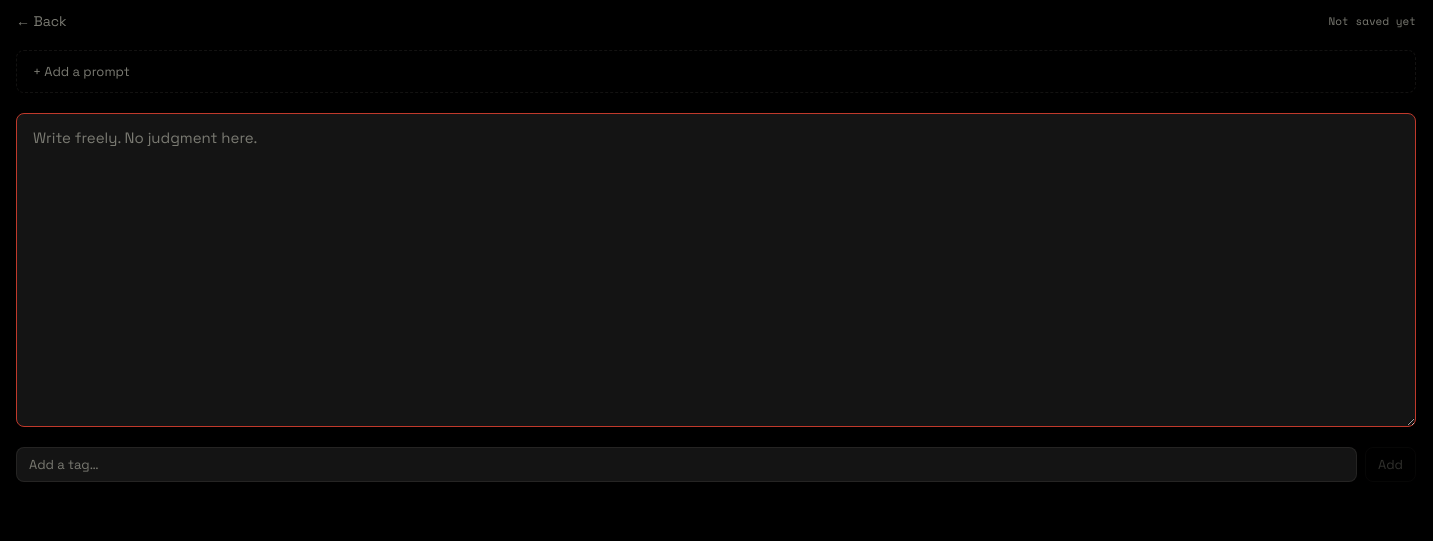
Test: JournalEntry — new entry mode › cycles to a new prompt when "New prompt" is clicked
Click the button "+ Add a prompt".
click(81, 72)  # box top-left (16, 50), bottom-right (1416, 93)
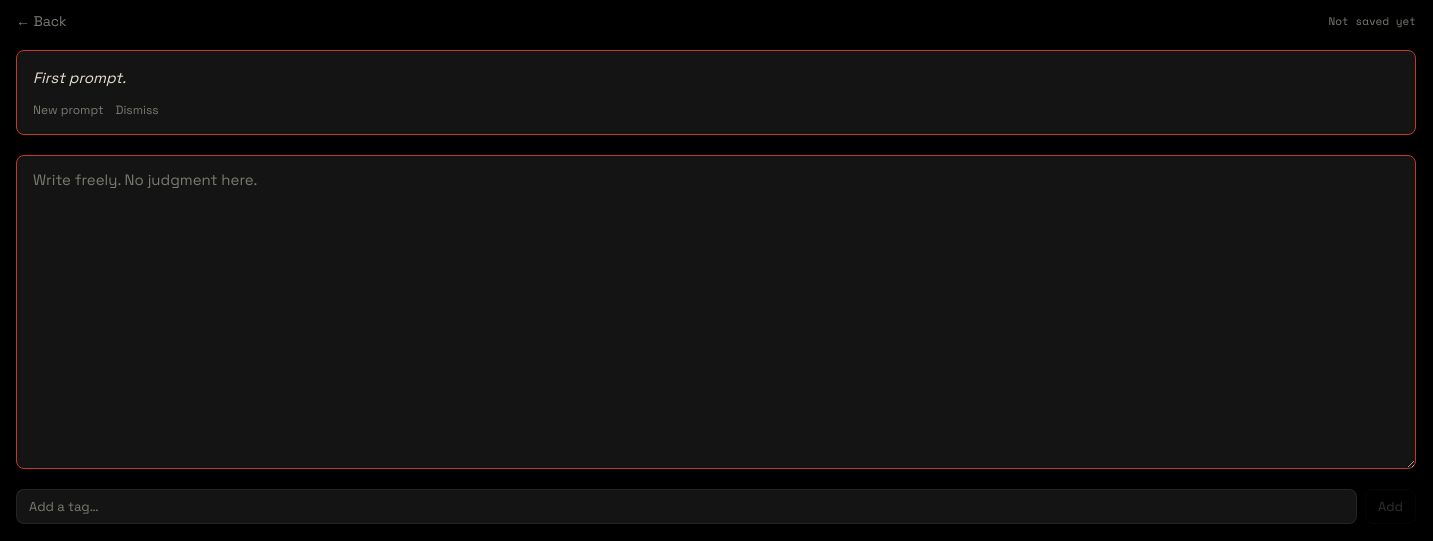
Expected: the text "First prompt." is shown, top-left (33, 68), bottom-right (126, 87)
Click the button "New prompt".
click(68, 110)  # box top-left (33, 102), bottom-right (103, 118)
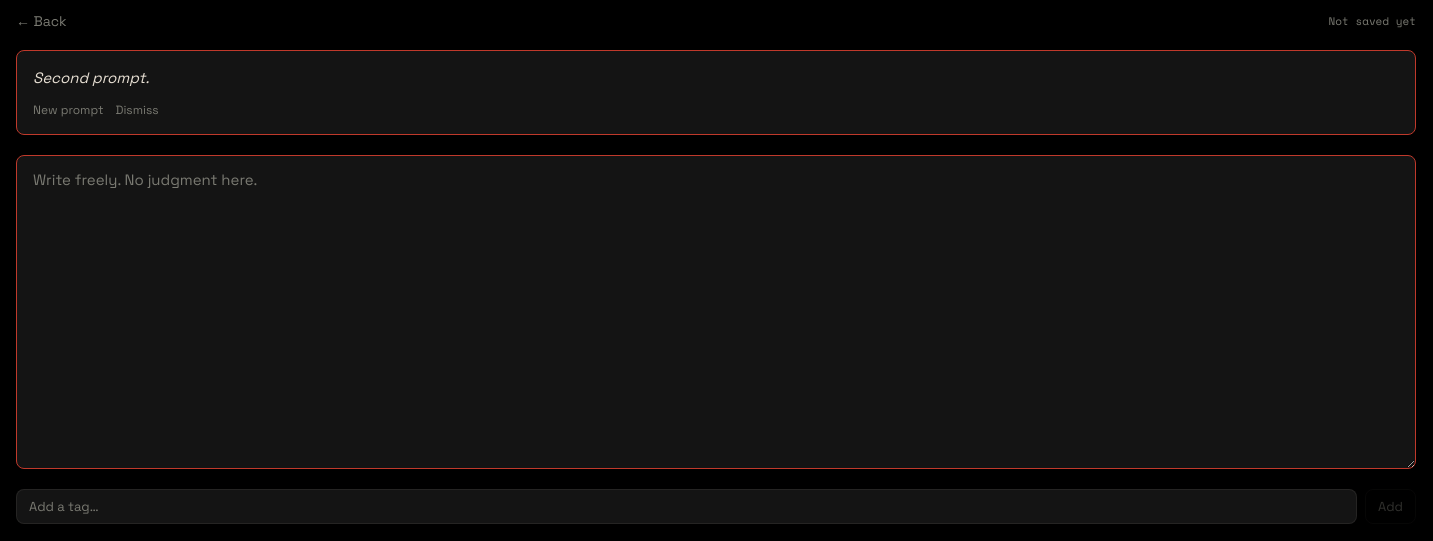
Expected: the text "Second prompt." is shown, top-left (33, 68), bottom-right (149, 87)
